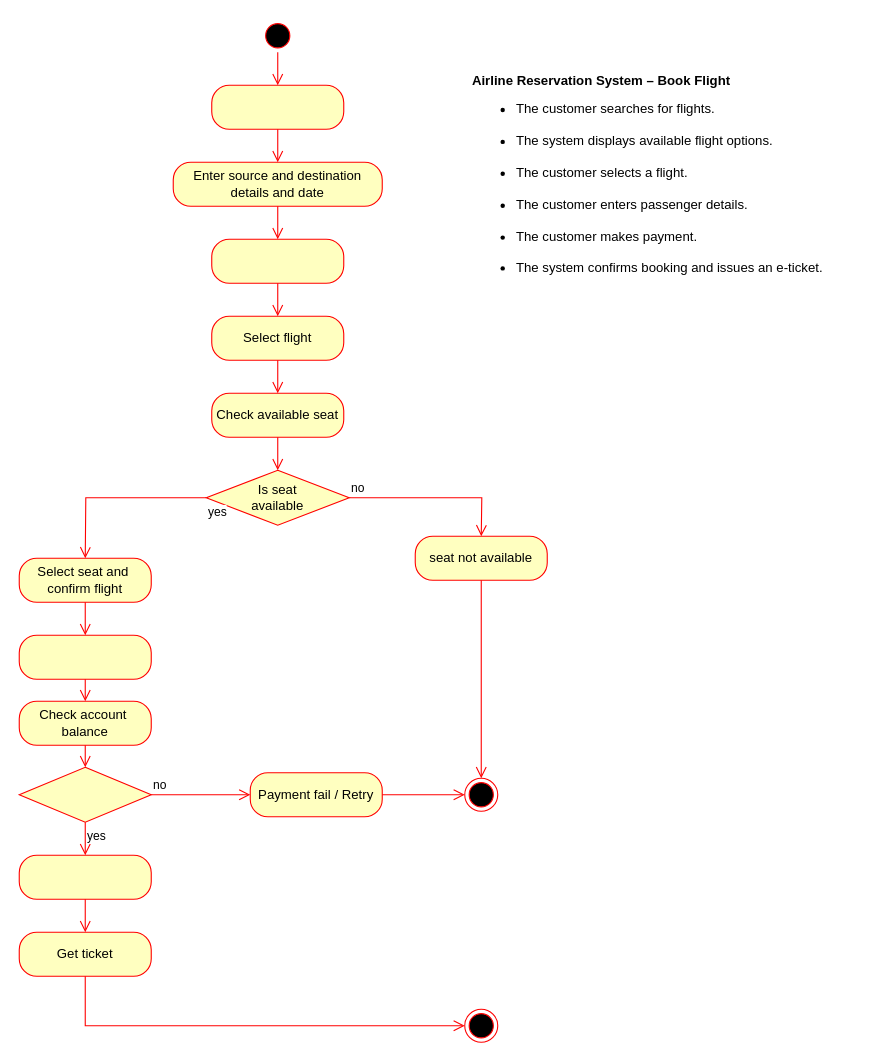
This 880x1062 diagram has some shape labels left out. Each missing label, with the centre of its shape:
"Display available flights(system)" goes at pixel 277 260.
"Is sufficient balance?" goes at pixel 84 794.
"Open airline booking app" goes at pixel 277 106.
"Payment successfull" goes at pixel 84 876.
"Proceed to payment" goes at pixel 84 656.
